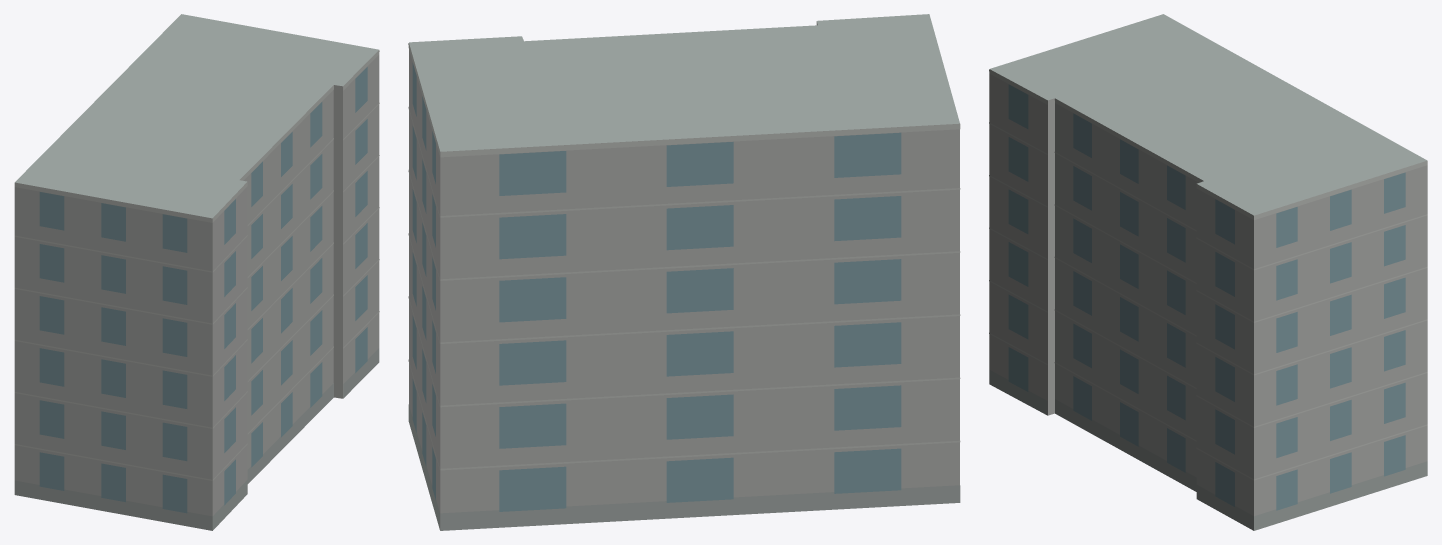
Rendered from survey-upis-32731298.glb.
3 renders of one model, left to right at view 1: azimuth 30°, elevation 25°; view 2: azimuth 150°, elevation 25°; view 3: azimuth 270°, elevation 25°, orthographic. The views are drawn at different scales.
Visible parts, largest first — view 1: survey-upis-32731298.tmp; view 2: survey-upis-32731298.tmp; view 3: survey-upis-32731298.tmp.
Part boxes in pixels (box(x1,y1,x2,y2)): survey-upis-32731298.tmp: box(14, 14, 379, 530); survey-upis-32731298.tmp: box(408, 14, 960, 530); survey-upis-32731298.tmp: box(989, 14, 1427, 530).
Bounding box in the file's own units: 22.93 × 16.7 × 21.06.
